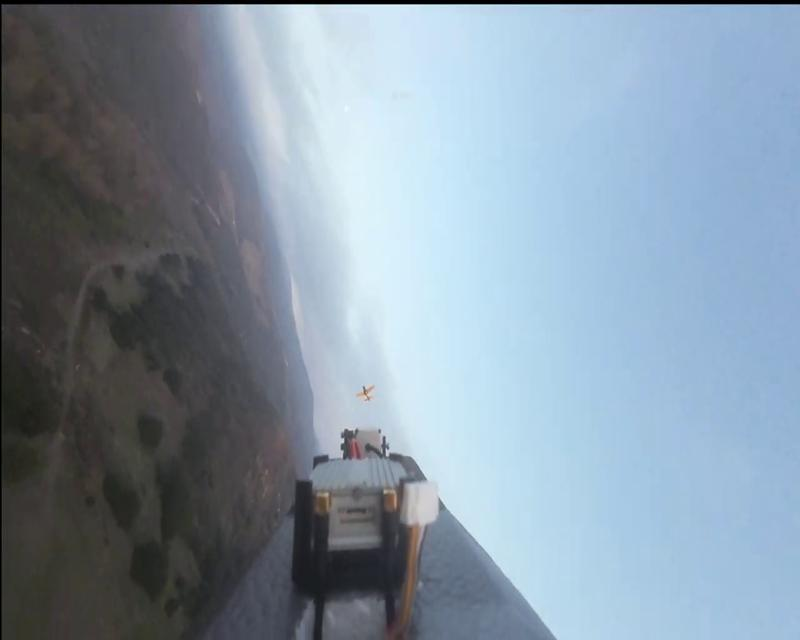UAV: (355, 384, 376, 406)
